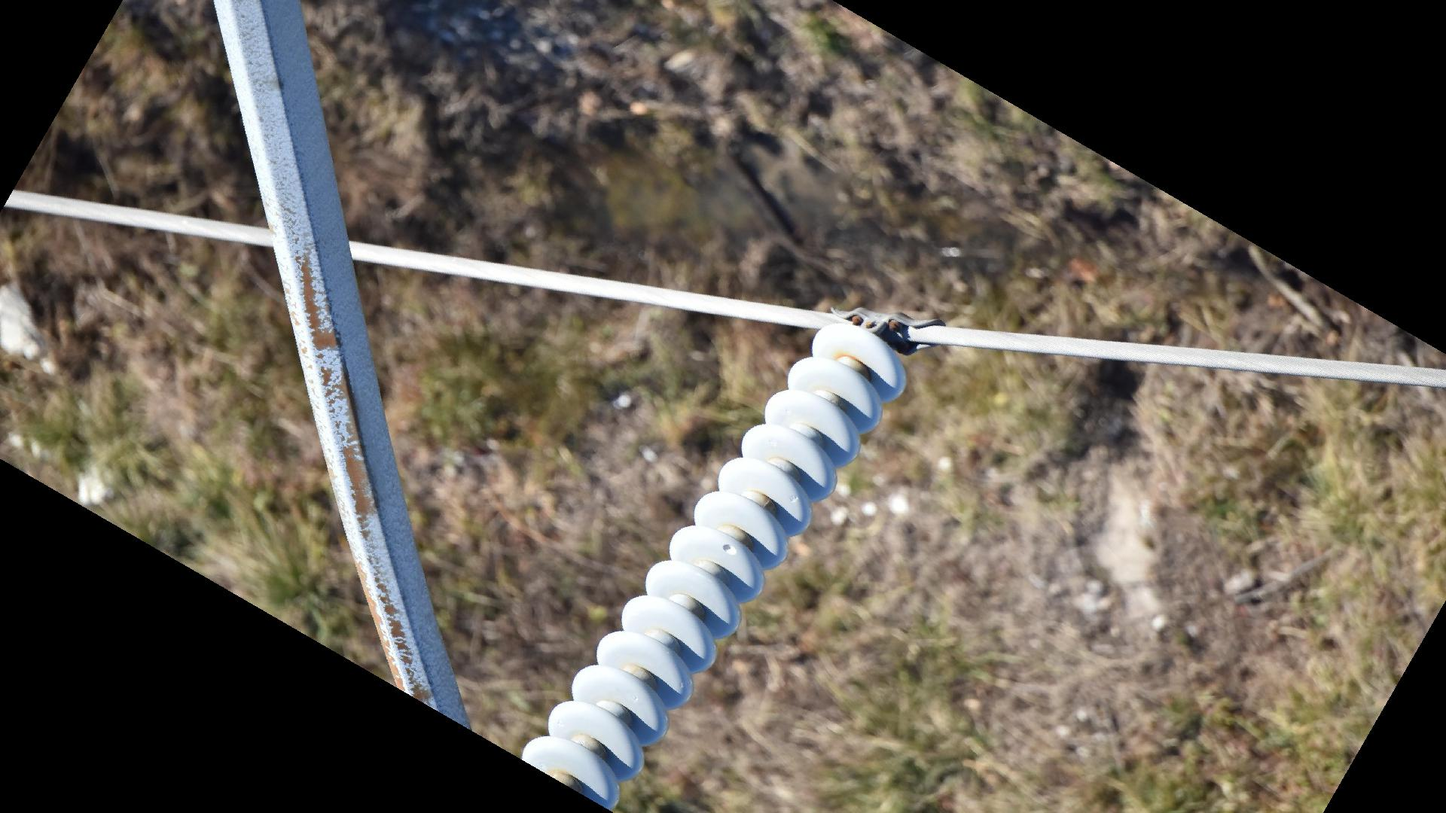insulator: (515, 316, 912, 813)
insulator_breakage: (716, 539, 741, 561)
